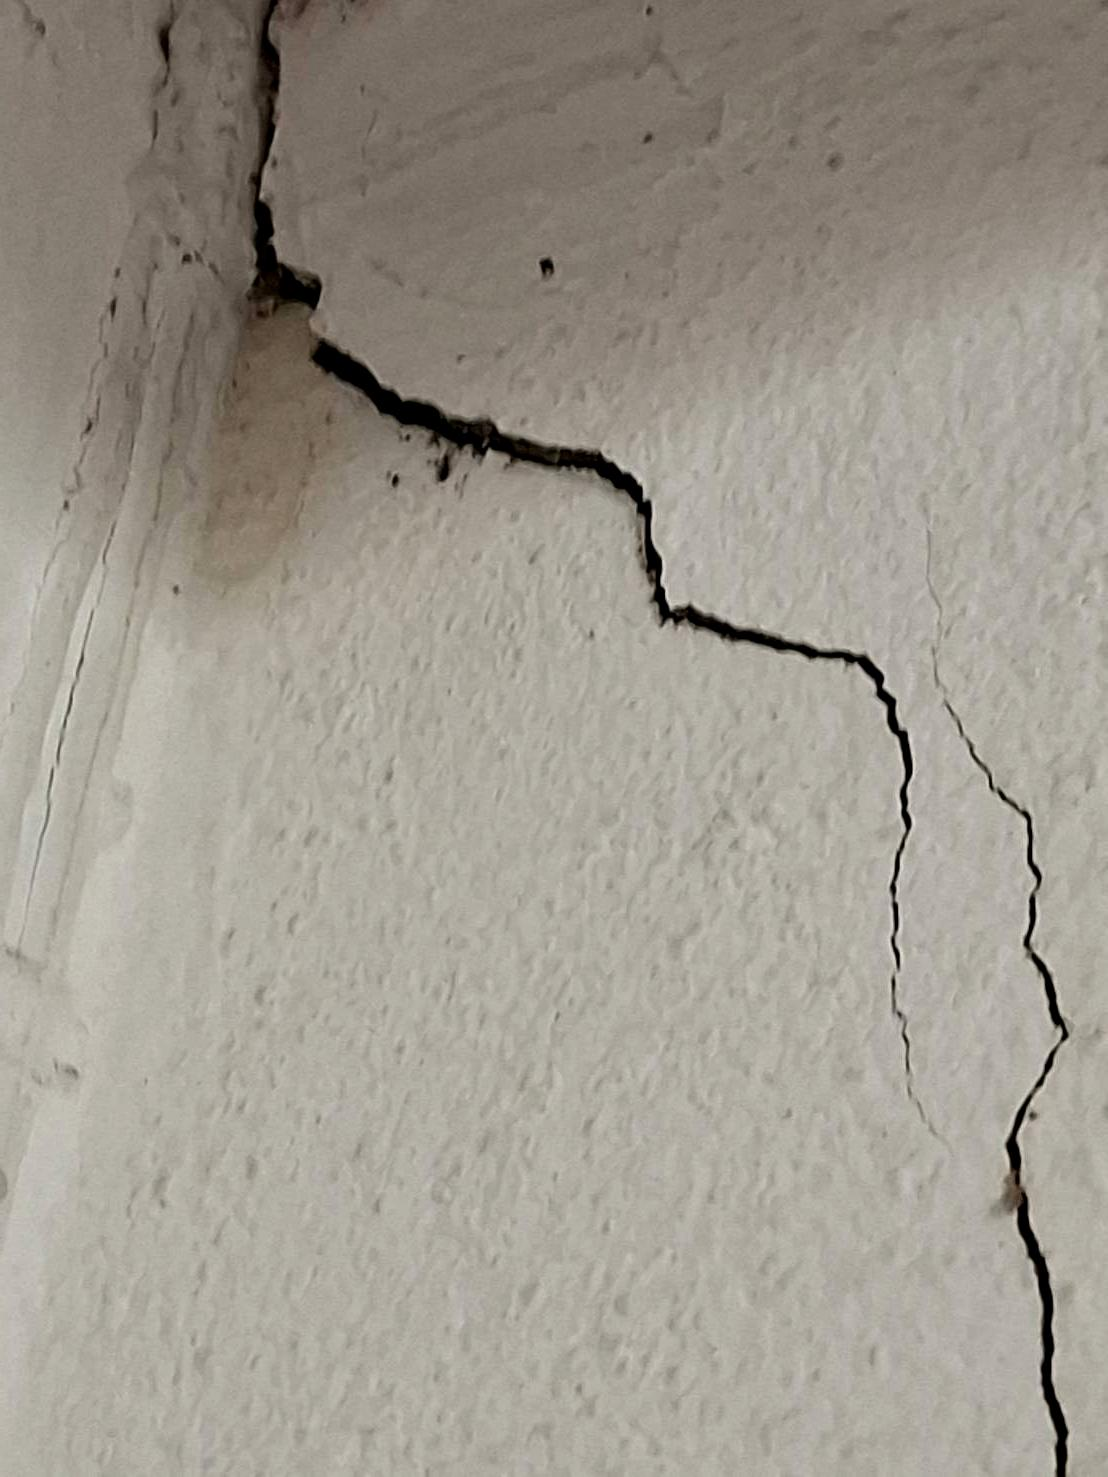High: (163, 2, 1096, 1471)
